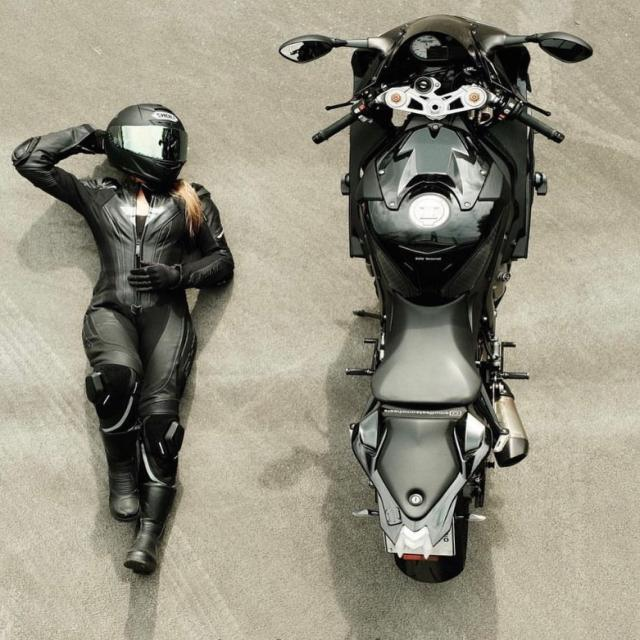helmet: (101, 100, 192, 188)
